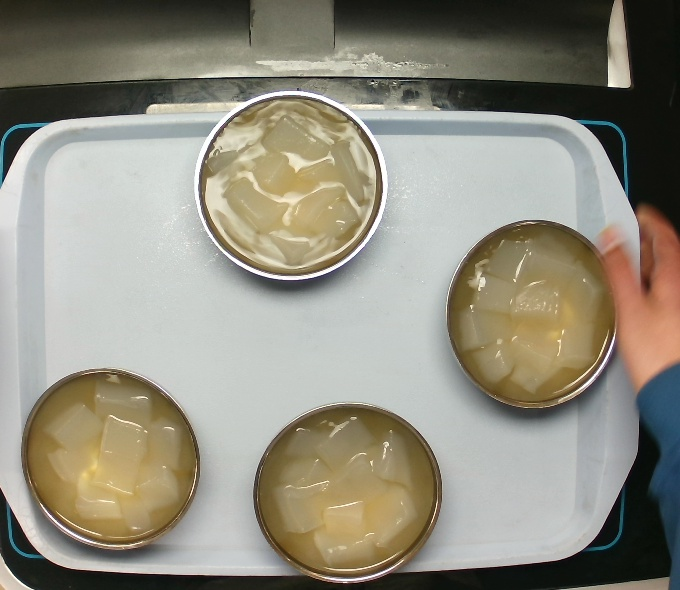wcq-YeGuoLi: (187, 91, 400, 277), (256, 397, 449, 583), (445, 211, 621, 412), (16, 373, 206, 541)
